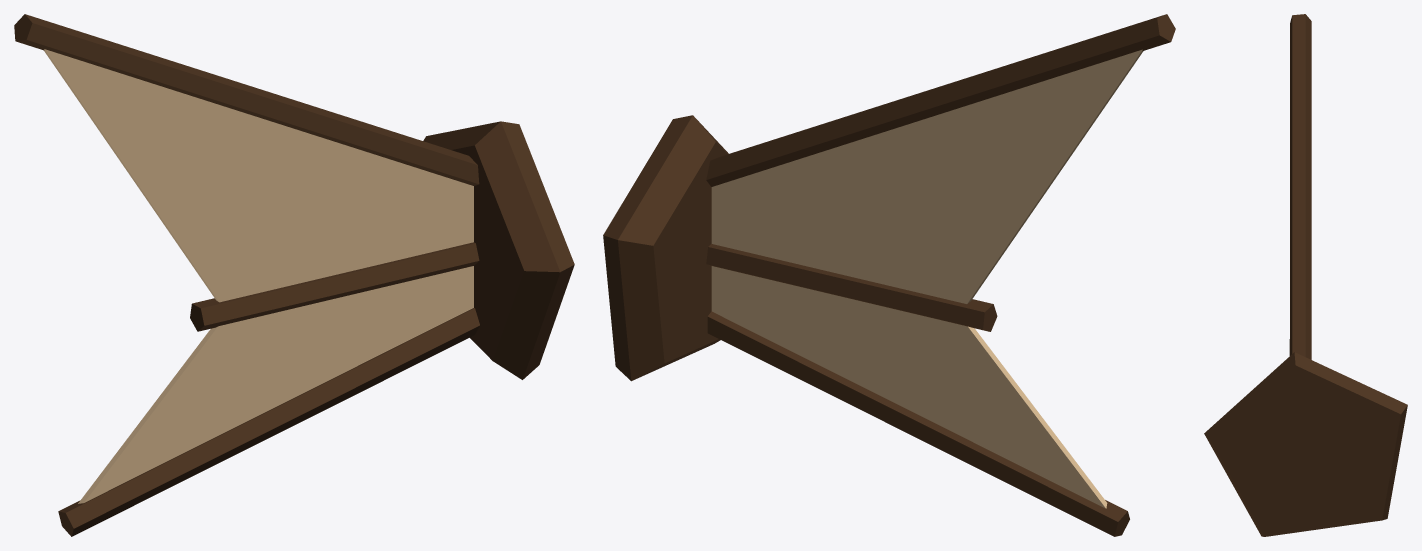
Rendered from Tribal_Plains_Windmill_Rudder_End_Bird_01.fbx.
3 renders of one model, left to right at view 1: azimuth 30°, elevation 25°; view 2: azimuth 150°, elevation 25°; view 3: azimuth 270°, elevation 25°, orthographic. The views are drawn at different scales.
Visible parts, largest first — view 1: Tribal_Plains_Windmill_Rudder_End_Bird_01; view 2: Tribal_Plains_Windmill_Rudder_End_Bird_01; view 3: Tribal_Plains_Windmill_Rudder_End_Bird_01.
Boxes of the visible parts, x1,y1,x2,y2 form: Tribal_Plains_Windmill_Rudder_End_Bird_01: (14,14,574,536); Tribal_Plains_Windmill_Rudder_End_Bird_01: (603,14,1175,536); Tribal_Plains_Windmill_Rudder_End_Bird_01: (1204,14,1407,536).
Size of the model in its own units: 1.87 by 1.9 by 0.8722.
